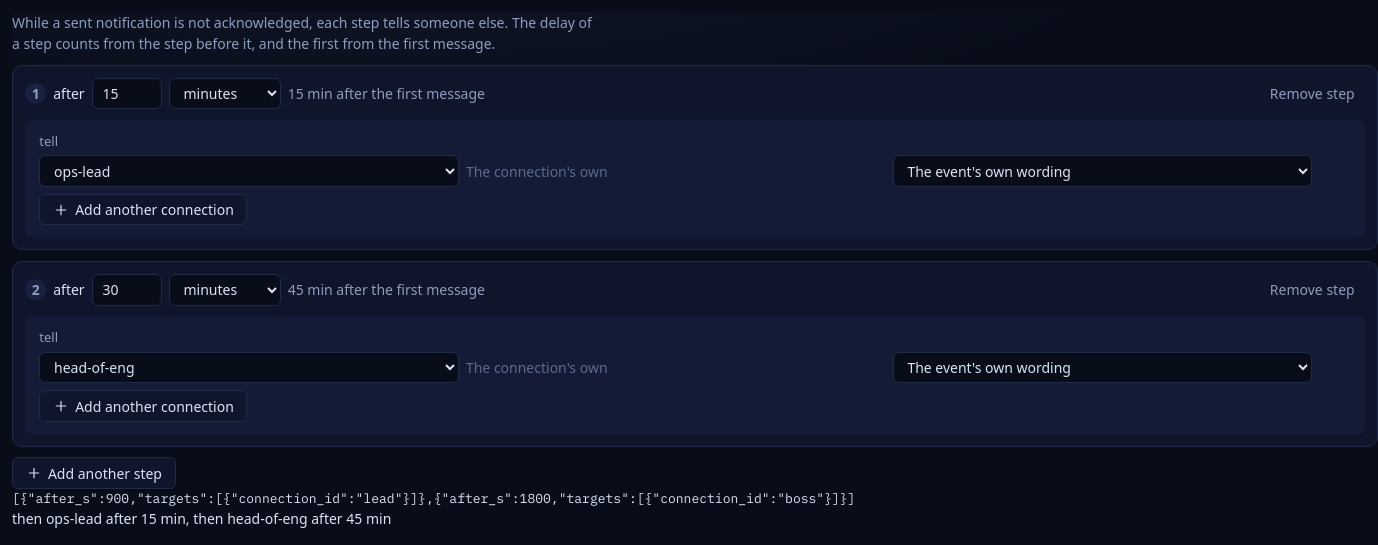
Test: EscalationEditor › shows how long after the first message each step goes out
Check: the text with test id "since-first" reads "15 min after the first message", box [288,84,485,103]
Check: the text with test id "since-first" reads "45 min after the first message", box [288,280,485,300]
# Making the first step later moves the second with it.
Replace the text in the number field named "Step 1: delay" with "20": (127, 94) [92,78,162,109]
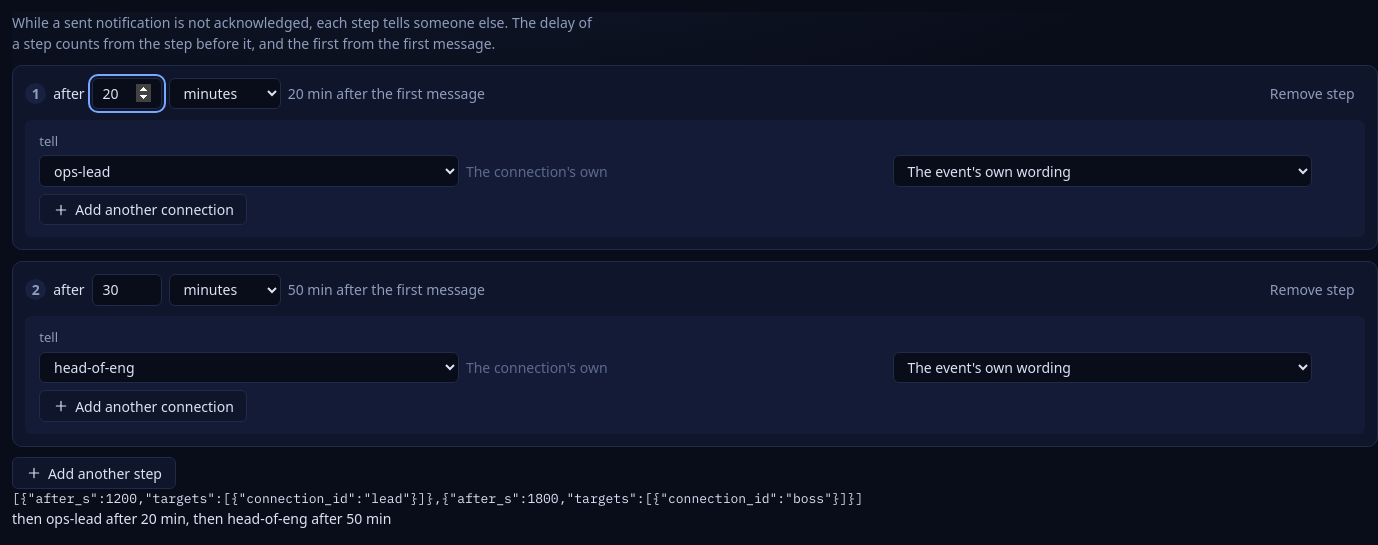
Check: the text with test id "since-first" reads "50 min after the first message", box [288,280,485,300]
